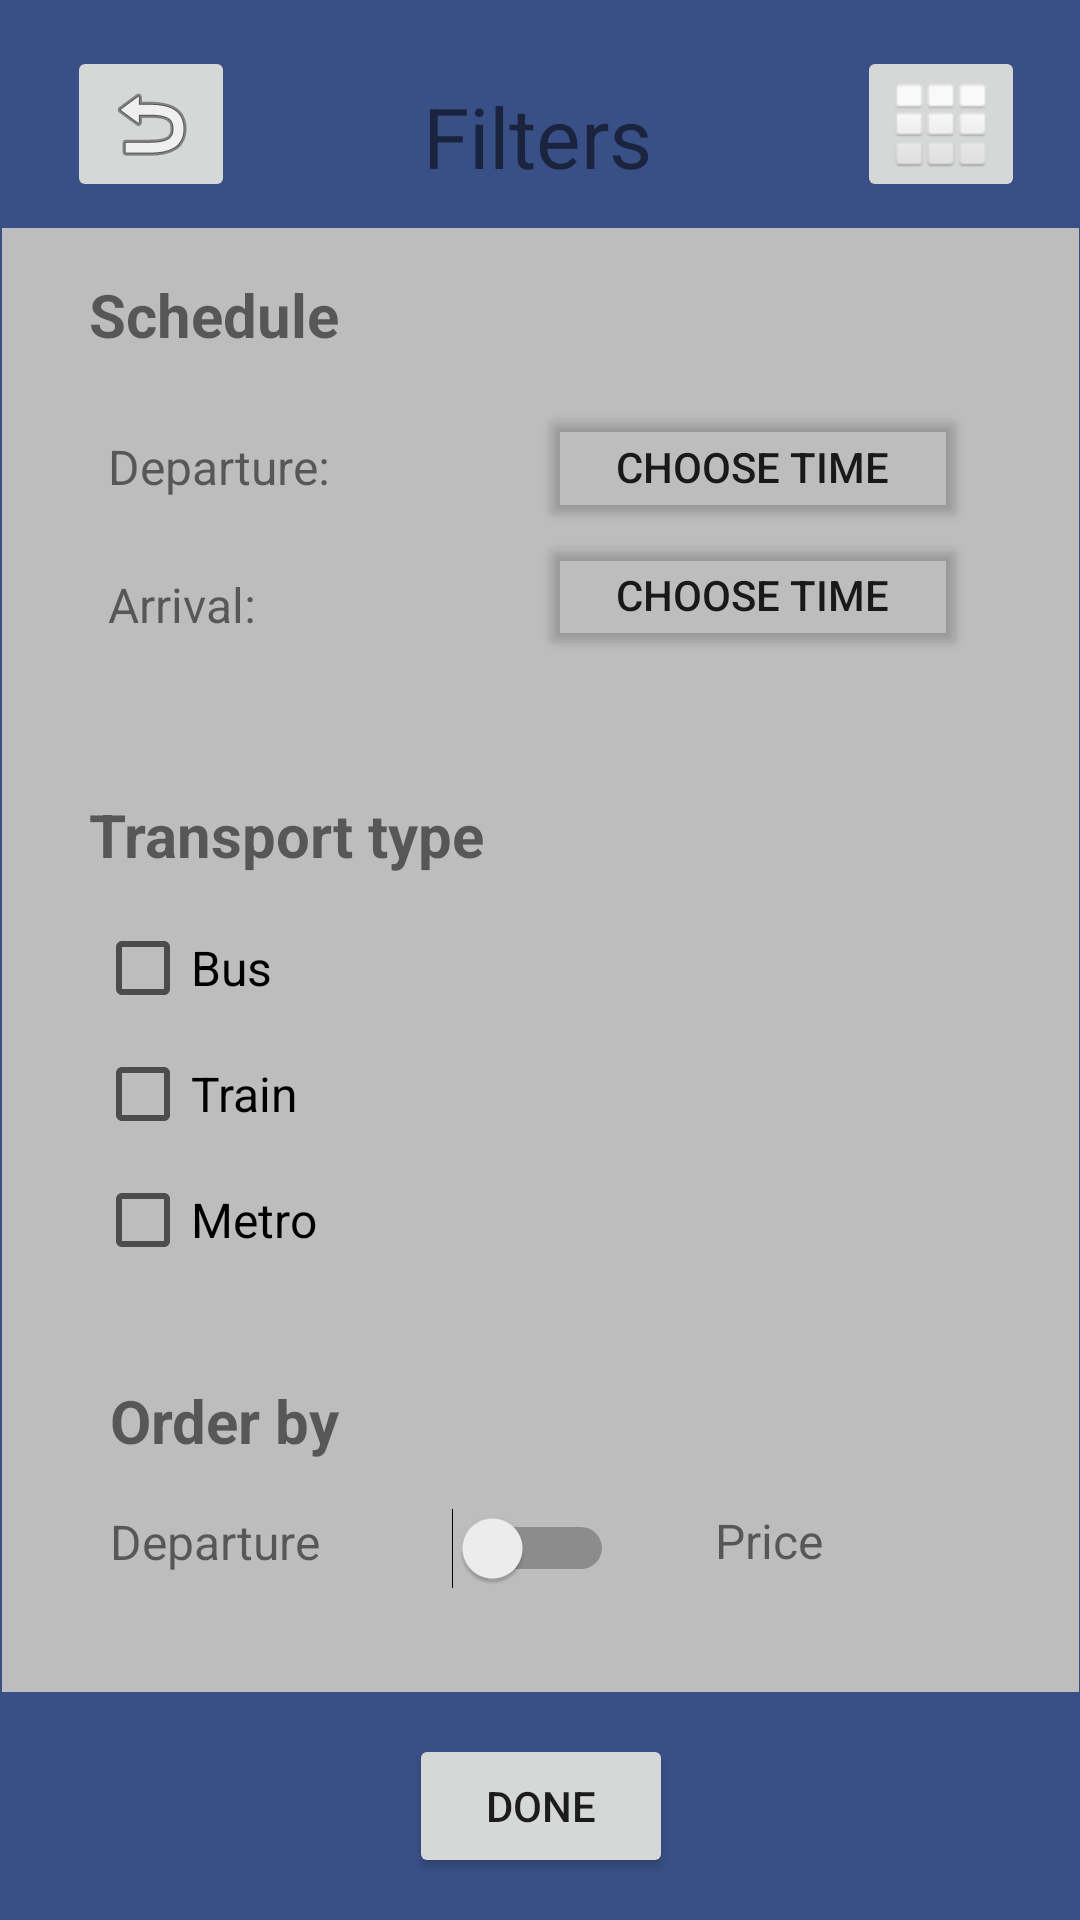

Locate icon controls on the screen. Image size 1080×1920, boxes as (x1, y1, x2, y2).
dialer: (869, 64, 1013, 184)
revert: (79, 64, 223, 184)
